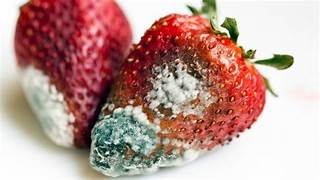strawberry: (81, 3, 298, 176)
